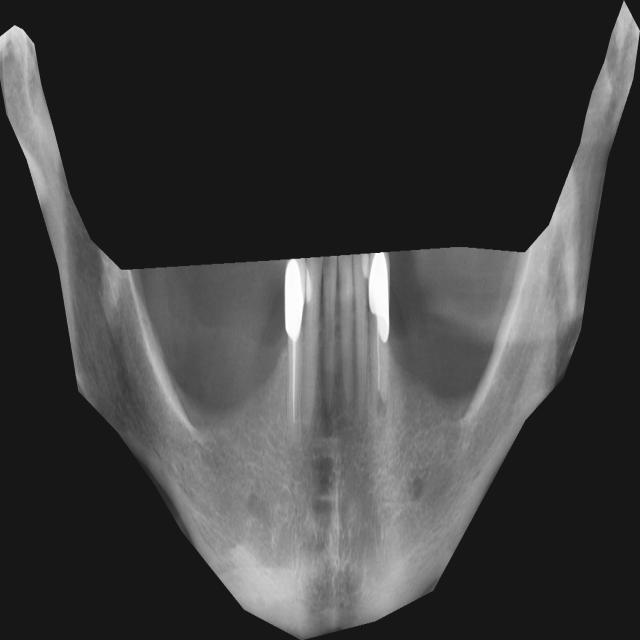mandibula: (0, 0, 640, 640)
